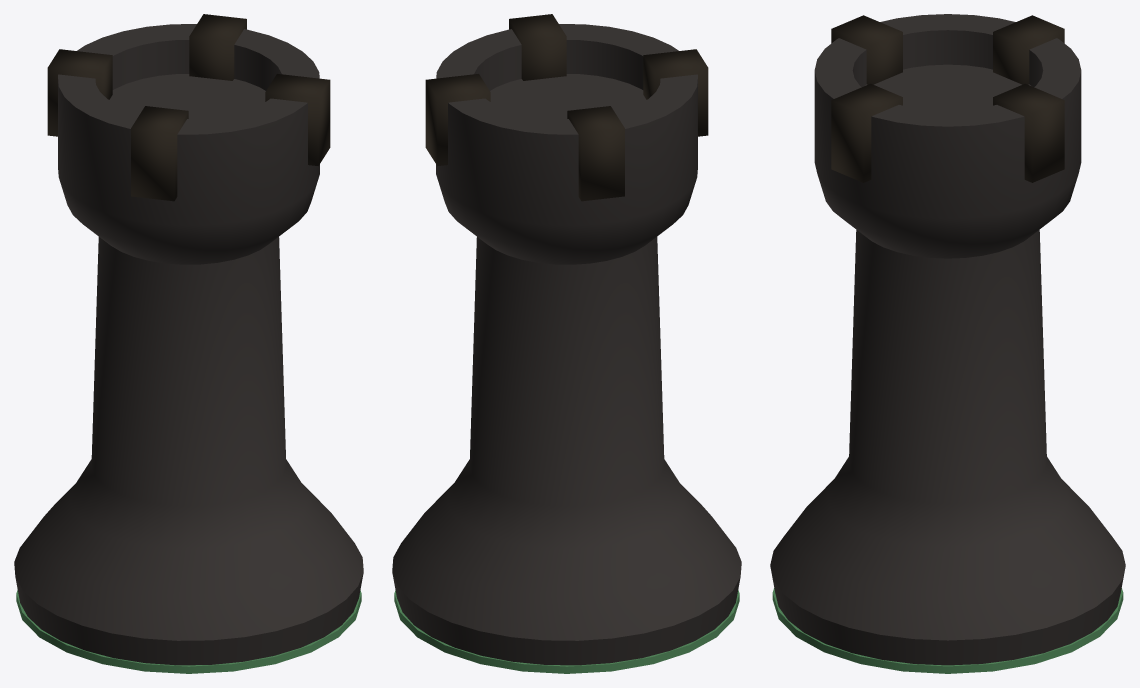
The model's file is chess_rook_b.glb.
The picture shows the model from 3 angles, left to right: view 1: azimuth 30°, elevation 25°; view 2: azimuth 150°, elevation 25°; view 3: azimuth 270°, elevation 25°; orthographic projection.
Parts seen in each view (by area): view 1: Piece, Notch.003, Felt, Notch.001, Notch, Notch.002; view 2: Piece, Notch.002, Felt, Notch, Notch.001, Notch.003; view 3: Piece, Notch, Notch.001, Felt, Notch.002, Notch.003.
Part boxes in pixels (x1,y1,x2,y2): Piece: (14,24,363,665); Notch.003: (131,106,188,201); Felt: (16,590,361,673); Notch.001: (189,14,246,80); Notch: (265,74,330,166); Notch.002: (47,49,112,136); Piece: (392,24,741,665); Notch.002: (567,106,624,201); Felt: (394,590,739,673); Notch: (509,14,566,80); Notch.001: (425,74,490,166); Notch.003: (643,49,708,136); Piece: (770,14,1125,665); Notch: (831,83,902,182); Notch.001: (993,83,1064,182); Felt: (772,588,1123,673); Notch.002: (993,15,1064,84); Notch.003: (831,15,902,84).
Size of the model in its own units: 0.0342 by 0.0568 by 0.0342.
